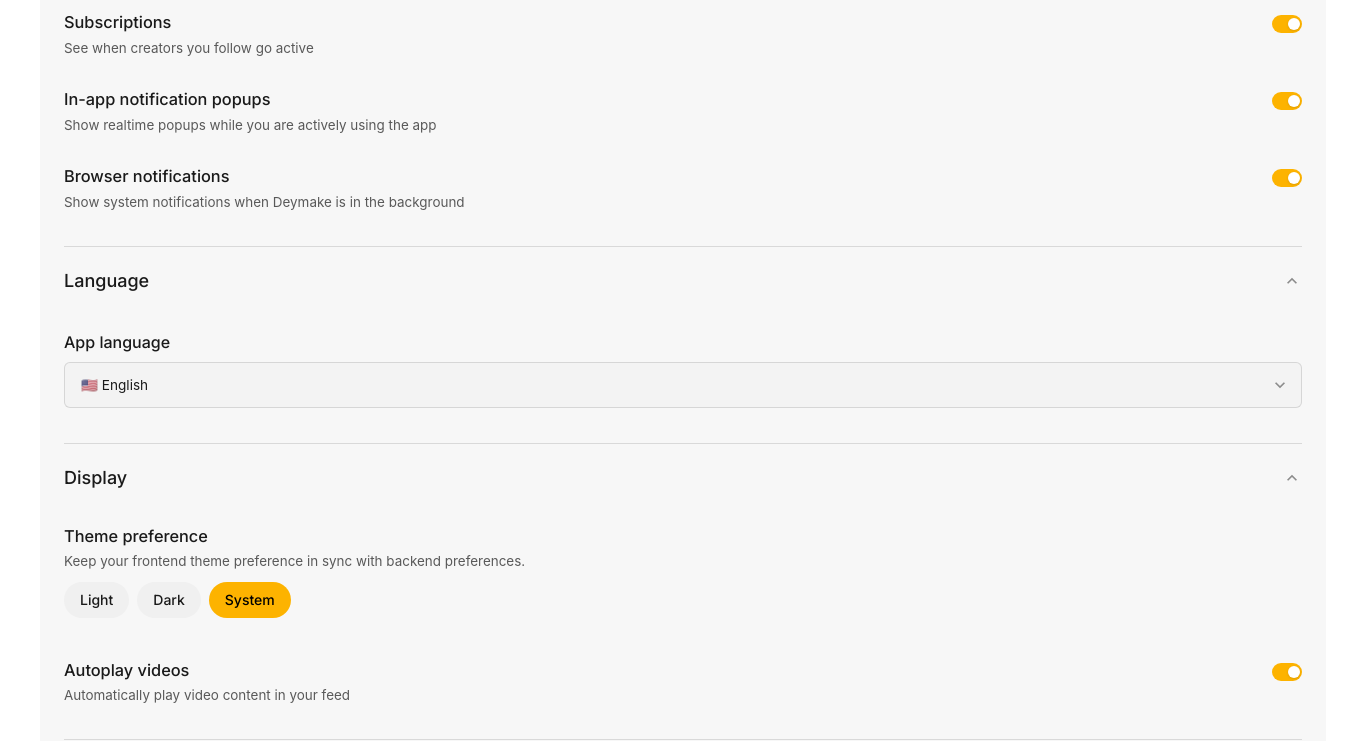
Settings › shows the expanded language list and persists a language change
This screenshot has width=1366, height=741.
(page scrolled)
Select "🇳🇬 Yorùbá" in the dropdown. click: (683, 385)
box: [64, 362, 1302, 408]
(page scrolled)
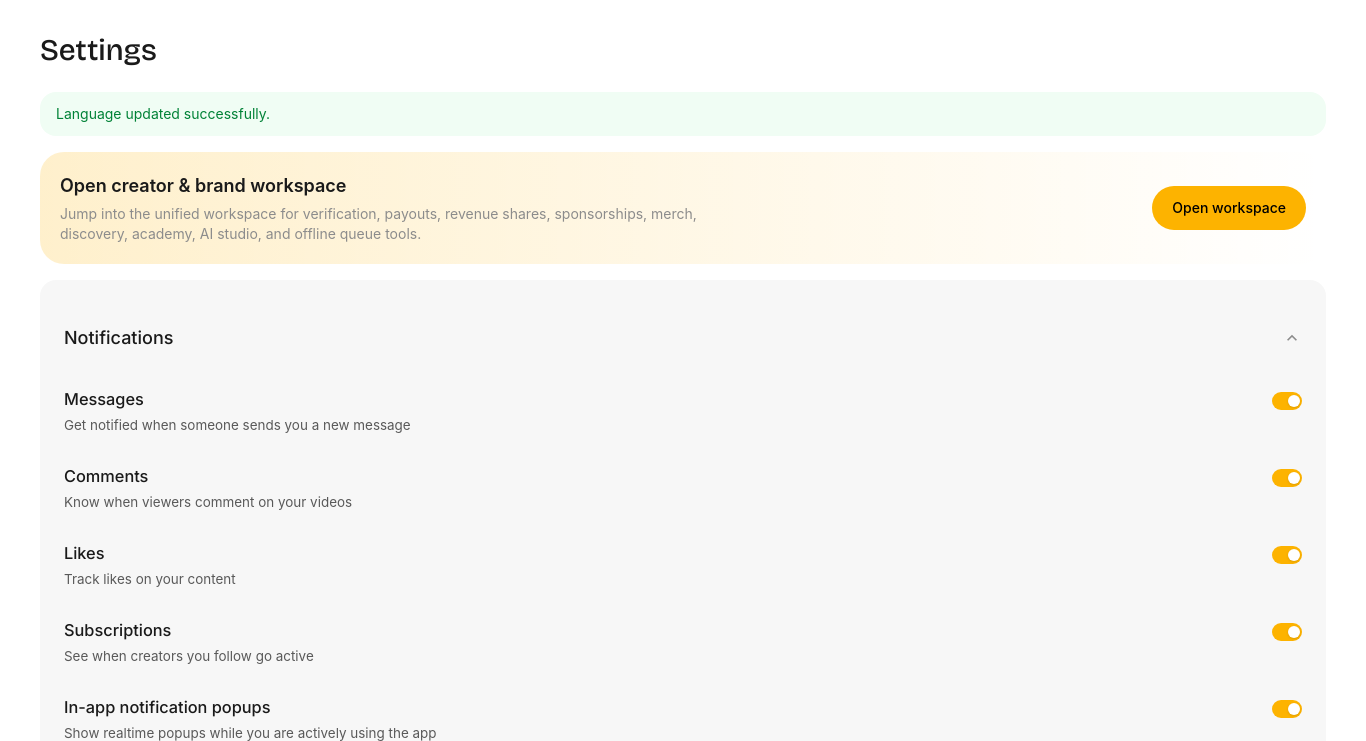
Expected: the text "Language updated successfully." is shown, [40, 92, 1326, 136]
